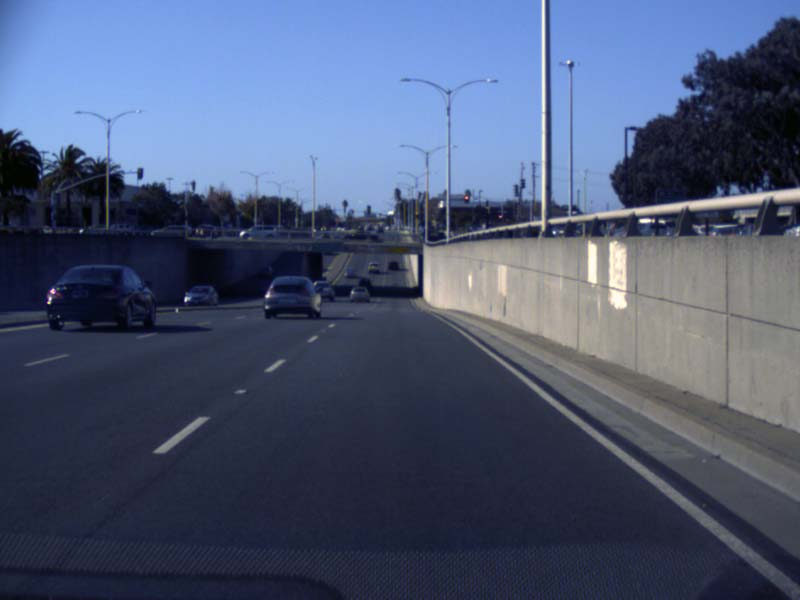Yellow: (463, 194, 468, 202)
